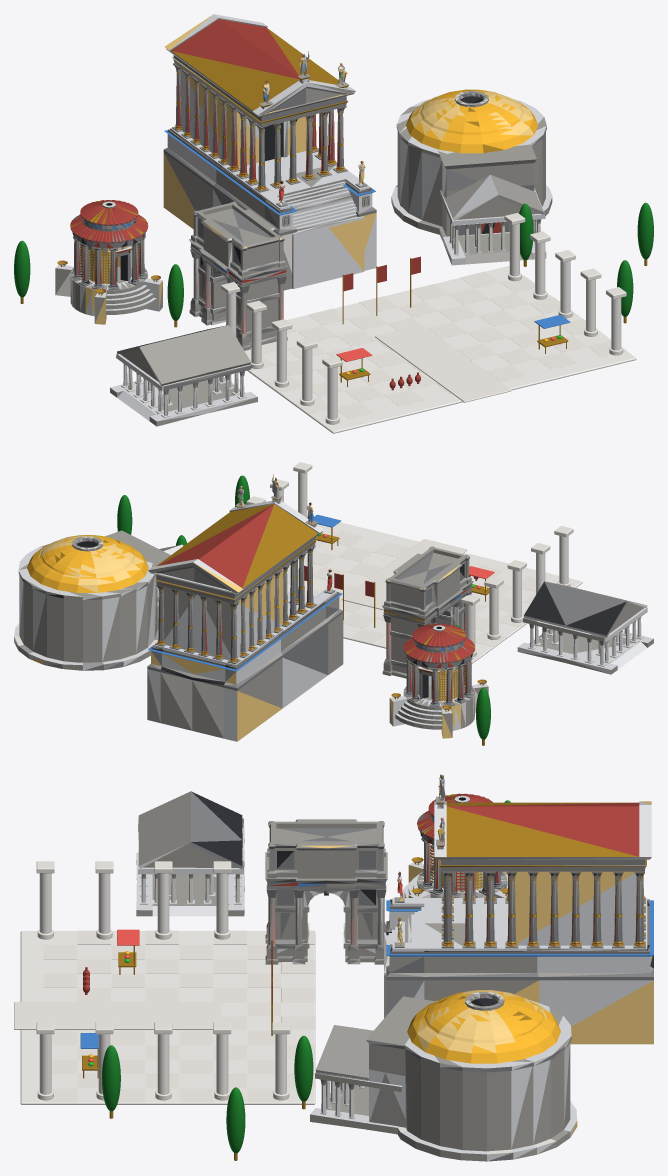
The model's file is roman_forum.glb.
3 views of the same model, one above another, from view 1: azimuth 30°, elevation 25°; view 2: azimuth 150°, elevation 25°; view 3: azimuth 270°, elevation 25° (orthographic). The views are drawn at different scales.
Visible parts, largest first — view 1: Lowpoly_temple_mars, Lowpoly_pantheon, Flat_002, Set, Lowpoly_triumphal_arch, Lowpoly_basilica, Lowpoly_temple_vesta, Flat_051; view 2: Lowpoly_temple_mars, Lowpoly_pantheon, Lowpoly_basilica, Lowpoly_temple_vesta, Lowpoly_triumphal_arch, Flat_002, Set, Flat_051; view 3: Lowpoly_temple_mars, Lowpoly_pantheon, Flat_002, Lowpoly_triumphal_arch, Set, Lowpoly_basilica, Flat_051, Lowpoly_temple_vesta.
Part boxes in pixels (x1,y1,x2,y2): Lowpoly_temple_mars: [163, 14, 376, 290]; Lowpoly_pantheon: [391, 89, 552, 265]; Flat_002: [244, 266, 636, 433]; Set: [14, 202, 653, 424]; Lowpoly_triumphal_arch: [189, 201, 288, 350]; Lowpoly_basilica: [110, 325, 257, 426]; Lowpoly_temple_vesta: [55, 200, 162, 324]; Flat_051: [375, 324, 511, 402]; Lowpoly_temple_mars: [147, 474, 343, 741]; Lowpoly_pantheon: [14, 530, 183, 670]; Lowpoly_basilica: [517, 581, 653, 674]; Lowpoly_temple_vesta: [389, 623, 488, 738]; Lowpoly_triumphal_arch: [382, 546, 473, 678]; Flat_002: [287, 514, 582, 663]; Set: [117, 462, 573, 745]; Flat_051: [341, 539, 467, 610]; Lowpoly_temple_mars: [384, 774, 653, 1044]; Lowpoly_pantheon: [310, 990, 577, 1161]; Flat_002: [20, 931, 315, 1104]; Lowpoly_triumphal_arch: [265, 819, 387, 964]; Set: [36, 800, 510, 1160]; Lowpoly_basilica: [136, 791, 244, 916]; Flat_051: [14, 1002, 222, 1029]; Lowpoly_temple_vesta: [401, 793, 507, 897].
Size of what is drawn, in the model's own units: 31.94 by 12.04 by 28.26.
